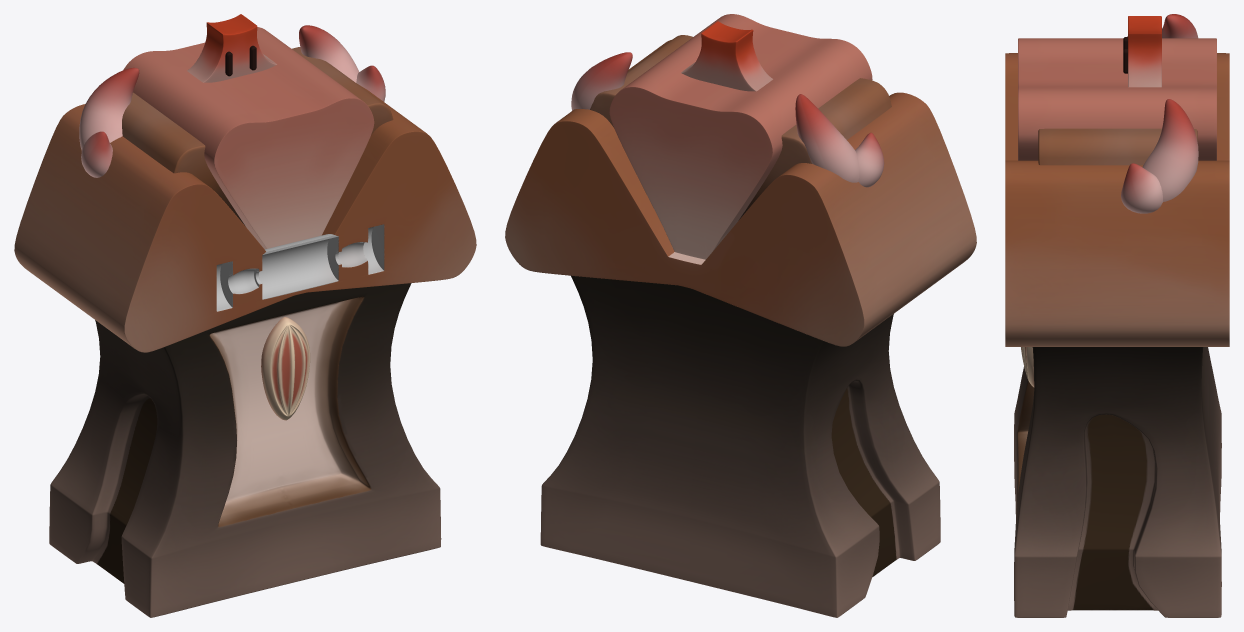
The picture shows the model from 3 angles, left to right: view 1: azimuth 30°, elevation 25°; view 2: azimuth 150°, elevation 25°; view 3: azimuth 270°, elevation 25°; orthographic projection. The views are drawn at different scales.
Visible parts, largest first — view 1: zhong2:zhong_wu1polySurface3, polySurface20, zhong2:zhong_wu1polySurface12, zhong2:zhong_wu1, polySurface19, zhong2:zhong_wu1polySurface5; view 2: zhong2:zhong_wu1polySurface3, polySurface20, zhong2:zhong_wu1polySurface12, zhong2:zhong_wu1polySurface5; view 3: zhong2:zhong_wu1polySurface3, polySurface20, zhong2:zhong_wu1polySurface12, zhong2:zhong_wu1polySurface5, zhong2:zhong_wu1.
Boxes of the visible parts, x1,y1,x2,y2 form: zhong2:zhong_wu1polySurface3: (49,47,441,617); polySurface20: (14,27,476,352); zhong2:zhong_wu1polySurface12: (79,25,385,177); zhong2:zhong_wu1: (261,317,310,420); polySurface19: (259,234,338,299); zhong2:zhong_wu1polySurface5: (187,14,276,82); zhong2:zhong_wu1polySurface3: (540,35,940,617); polySurface20: (505,14,976,346); zhong2:zhong_wu1polySurface12: (571,52,884,187); zhong2:zhong_wu1polySurface5: (681,21,772,91); zhong2:zhong_wu1polySurface3: (1014,128,1221,617); polySurface20: (1005,38,1229,346); zhong2:zhong_wu1polySurface12: (1121,14,1198,213); zhong2:zhong_wu1polySurface5: (1128,16,1161,87); zhong2:zhong_wu1: (1021,347,1034,387).
Size of the model in its own units: 6.14 by 8.54 by 3.32.
